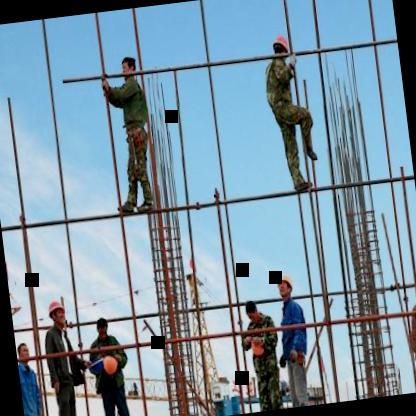head: (116, 52, 140, 84), (92, 310, 112, 339), (14, 336, 31, 366), (242, 296, 260, 324)
helmet: (43, 294, 68, 330), (269, 30, 292, 65), (274, 270, 296, 300)
